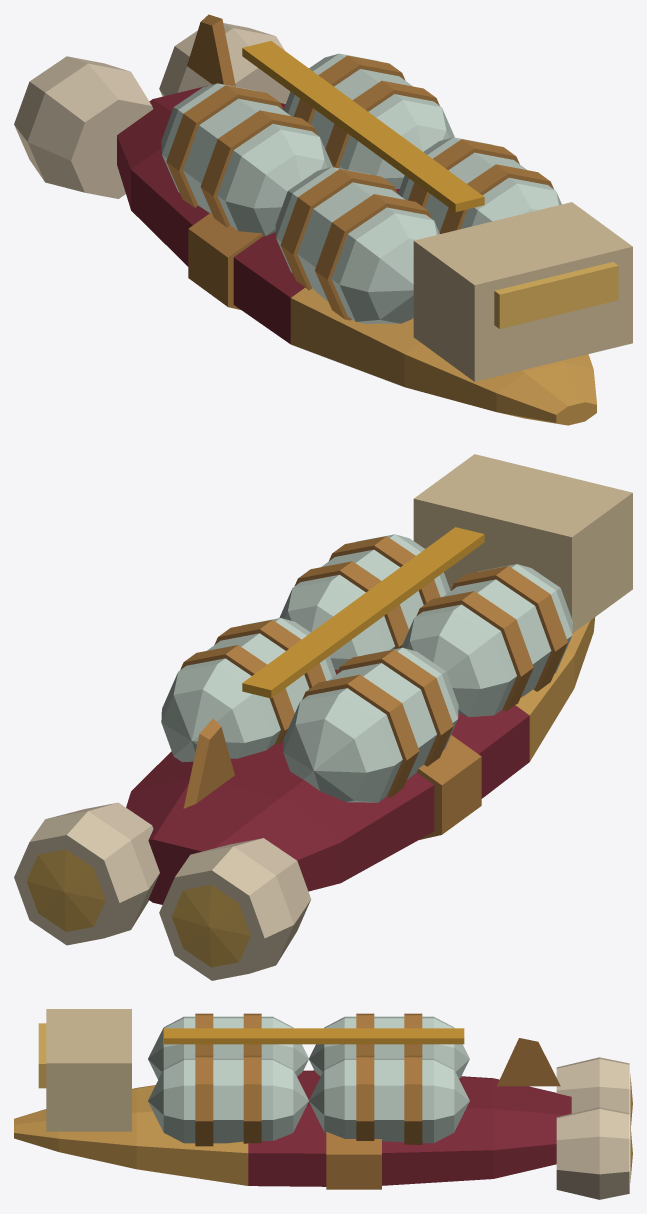
File: barge.gltf
3 renders of one model, top to bottom at view 1: azimuth 30°, elevation 25°; view 2: azimuth 150°, elevation 25°; view 3: azimuth 270°, elevation 25°, orthographic. The views are drawn at different scales.
Parts seen in each view (by area): view 1: hull, tanks, cab, tanks_fore, engines, stripe, cab_window, pennant; view 2: hull, tanks, engines, tanks_fore, cab, stripe, pennant; view 3: hull, tanks_fore, tanks, cab, engines, stripe, pennant, cab_window.
Part boxes in pixels (x1,y1,x2,y2): hull: [117, 85, 596, 425]; tanks: [161, 53, 454, 236]; cab: [413, 202, 632, 381]; tanks_fore: [275, 137, 561, 323]; engines: [14, 23, 290, 198]; stripe: [242, 41, 484, 212]; cab_window: [494, 262, 618, 328]; pennant: [187, 14, 235, 86]; hull: [126, 617, 595, 904]; tanks: [161, 618, 458, 802]; engines: [14, 802, 311, 980]; tanks_fore: [279, 534, 572, 716]; cab: [413, 454, 632, 633]; stripe: [242, 527, 484, 698]; pennant: [183, 718, 234, 808]; hull: [14, 1070, 571, 1189]; tanks_fore: [148, 1013, 308, 1146]; tanks: [309, 1013, 469, 1144]; cab: [46, 1009, 131, 1131]; engines: [556, 1057, 632, 1199]; stripe: [164, 1028, 464, 1044]; pennant: [497, 1038, 560, 1086]; cab_window: [38, 1023, 46, 1088].
Size of the model in its own units: 2.02 by 1.44 by 5.77.
